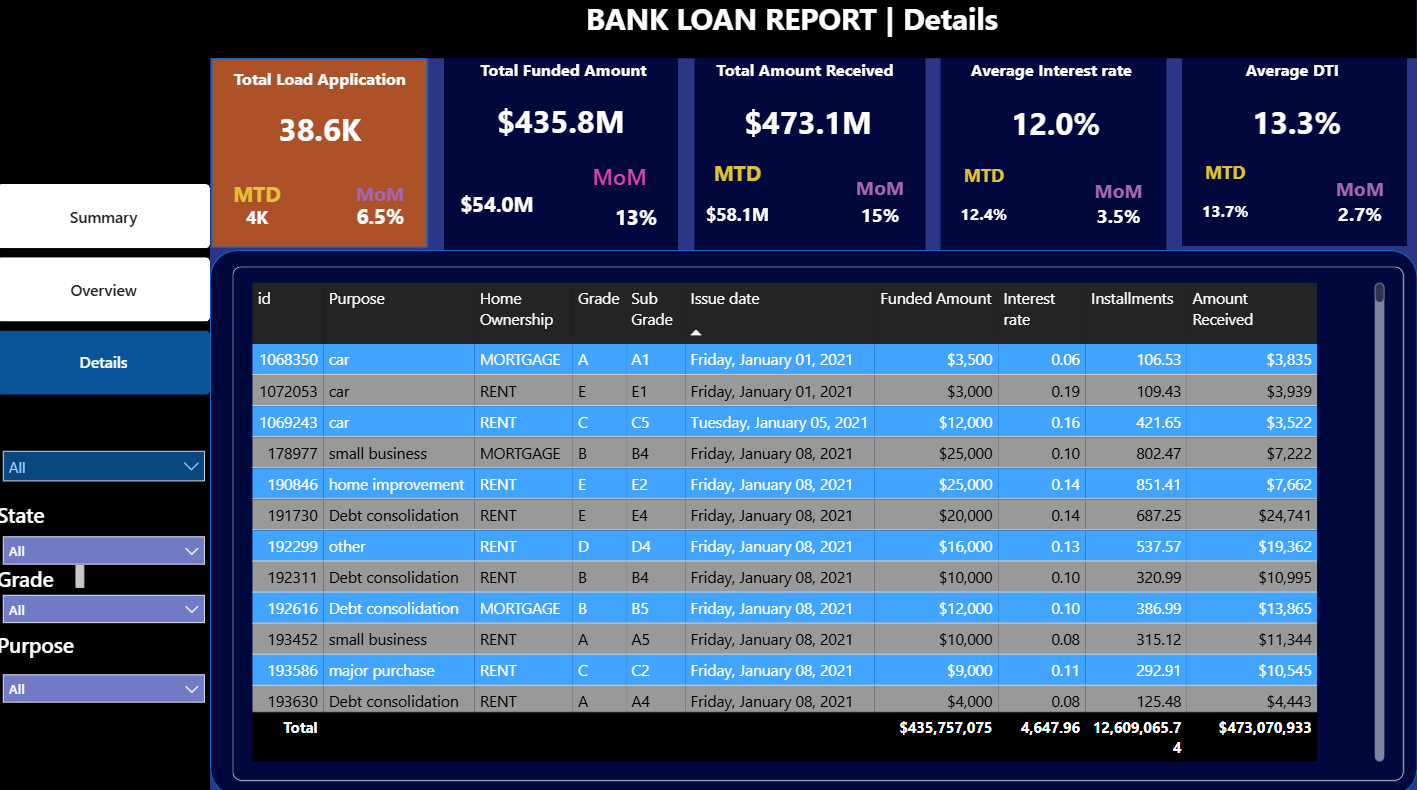

Layout of this report page (visuals, bound fields, positions):
{"tool":"powerbi","page":{"name":"Details","canvas":[1280,720],"ordinal":2},"visuals":[{"type":"shape","box":[0,0,1279.5,54.5],"z":0},{"type":"shape","box":[0,54.5,192.3,664.7],"z":1000},{"type":"textbox","box":[466.4,0,499.7,54.5],"z":2000},{"type":"shape","box":[193,53.6,194.6,170.9],"z":2000,"group":"g1"},{"type":"group","id":"g1","title":"Group 1","box":[192.7,53.6,195.3,170.9],"z":3000},{"type":"group","id":"g2","title":"Group 2","box":[402.8,54.2,211.5,172.6],"z":4000},{"type":"card","fields":{"Values":["financial_loan (2).Total Funded Amount"]},"box":[403.4,78.6,210.3,67],"z":4000,"group":"g2"},{"type":"card","fields":{"Values":["financial_loan (2).Avearge DTI"]},"box":[1070.3,81.1,201.4,64.7],"z":4000,"group":"g5"},{"type":"card","fields":{"Values":["financial_loan (2).Totak Amount Received"]},"box":[629.8,81.5,201.7,65.6],"z":4000,"group":"g3"},{"type":"card","fields":{"Values":["financial_loan (2).Average Interest Rate"]},"box":[852,81.6,202.4,65.9],"z":4000,"group":"g4"},{"type":"card","fields":{"Values":["financial_loan (2).Total Loan Application"]},"box":[192.7,88.5,195.3,60.6],"z":4000,"group":"g1"},{"type":"textbox","box":[410.7,54.2,199.3,28],"z":5000,"group":"g2"},{"type":"group","id":"g3","title":"Group 2","box":[627.9,54.2,208.2,172.6],"z":5000},{"type":"textbox","box":[627.9,54.2,199.2,28.5],"z":5000,"group":"g3"},{"type":"textbox","box":[850.1,54.2,199.9,28.5],"z":5000,"group":"g4"},{"type":"textbox","box":[1068.4,54.2,198.9,28],"z":5000,"group":"g5"},{"type":"textbox","box":[192.7,61.2,195.3,27.3],"z":5000,"group":"g1"},{"type":"group","id":"g4","title":"Group 2","box":[849.6,54.2,204.8,172.6],"z":6000},{"type":"card","title":"MTD","fields":{"Values":["financial_loan (2).MTD Total Received Amount"]},"box":[629.3,144.5,74.6,78.7],"z":6000,"group":"g3"},{"type":"card","title":"MTD","fields":{"Values":["financial_loan (2).MTD Average DTI"]},"box":[1067.9,146.7,77.8,72.3],"z":6000,"group":"g5"},{"type":"card","title":"MTD","fields":{"Values":["financial_loan (2).MTD Average Insterest rate"]},"box":[849.6,148.4,78.2,73.6],"z":6000,"group":"g4"},{"type":"card","title":"MTD","fields":{"Values":["financial_loan (2).MTD Load Applications"]},"box":[192.7,149.1,81.8,72.7],"z":6000,"group":"g1"},{"type":"card","title":"MTD","fields":{"Values":["financial_loan (2).MTD Total Funded Amount"]},"box":[402.8,149.2,95,77.6],"z":6000,"group":"g2"},{"type":"card","title":"MoM","fields":{"Values":["financial_loan (2).MoM Received Amount"]},"box":[753,144.5,83.1,82.3],"z":7000,"group":"g3"},{"type":"card","title":"MoM","fields":{"Values":["financial_loan (2).MoM Average DTI"]},"box":[1186.4,146.1,82.9,77.6],"z":7000,"group":"g5"},{"type":"card","title":"MoM","fields":{"Values":["financial_loan (2).MoM Total Funded Amount"]},"box":[536.3,147.4,78,75.9],"z":7000,"group":"g2"},{"type":"card","title":"MoM","fields":{"Values":["financial_loan (2).MoM Interest Rate"]},"box":[968.7,147.8,83.3,79],"z":7000,"group":"g4"},{"type":"card","title":"MoM","fields":{"Values":["financial_loan (2).MoM Load Applications"]},"box":[300.2,149.1,87.8,72.7],"z":7000,"group":"g1"},{"type":"shape","box":[191.9,227.1,1088.1,492],"z":7000},{"type":"group","id":"g5","title":"Group 2","box":[1067.9,54.2,203.1,169.2],"z":8000},{"type":"textbox","box":[212,93,1068,150],"z":9000},{"type":"slicer","fields":{"Values":["financial_loan (2).address_state"]},"box":[0,480,192.3,53],"z":10000},{"type":"textbox","box":[0,452.7,60.6,27.3],"z":11000},{"type":"textbox","box":[0,510.3,78.7,22.7],"z":12000},{"type":"slicer","fields":{"Values":["financial_loan (2).grade"]},"box":[0,533,192.3,37.9],"z":13000},{"type":"textbox","box":[0,570.9,180.2,33.3],"z":14000},{"type":"slicer","fields":{"Values":["financial_loan (2).purpose"]},"box":[0,604.2,192.3,43.9],"z":15000},{"type":"slicer","fields":{"Values":["Select Measure.Select Measure"]},"box":[0,402.8,192.3,50],"z":16000},{"type":"tableEx","fields":{"Values":["financial_loan (2).id","financial_loan (2).purpose","financial_loan (2).home_ownership","financial_loan (2).grade","financial_loan (2).sub_grade","financial_loan (2).issue_date","financial_loan (2).Total Funded Amount","Sum(financial_loan (2).int_rate)","Sum(financial_loan (2).installment)","financial_loan (2).Total Amount Received"]},"box":[212,242.3,1055.4,463.3],"z":17000},{"type":"pageNavigator","box":[0,168.1,192.3,192.3],"z":18000}]}

Visuals, with their boxes in screenshot pixels (x1, y1, x2, y2), scaled from the page's 1280x720 canvas onto the 1417x790 screenshot:
shape: pyautogui.locateOnScreen(0, 0, 1416, 60)
shape: pyautogui.locateOnScreen(0, 60, 213, 789)
textbox: pyautogui.locateOnScreen(516, 0, 1070, 60)
shape: pyautogui.locateOnScreen(214, 59, 429, 246)
"Group 1" group: pyautogui.locateOnScreen(213, 59, 430, 246)
"Group 2" group: pyautogui.locateOnScreen(446, 59, 680, 249)
card - financial_loan (2).Total Funded Amount: pyautogui.locateOnScreen(447, 86, 679, 160)
card - financial_loan (2).Avearge DTI: pyautogui.locateOnScreen(1185, 89, 1408, 160)
card - financial_loan (2).Totak Amount Received: pyautogui.locateOnScreen(697, 89, 920, 161)
card - financial_loan (2).Average Interest Rate: pyautogui.locateOnScreen(943, 90, 1167, 162)
card - financial_loan (2).Total Loan Application: pyautogui.locateOnScreen(213, 97, 430, 164)
textbox: pyautogui.locateOnScreen(455, 59, 675, 90)
"Group 2" group: pyautogui.locateOnScreen(695, 59, 926, 249)
textbox: pyautogui.locateOnScreen(695, 59, 916, 91)
textbox: pyautogui.locateOnScreen(941, 59, 1162, 91)
textbox: pyautogui.locateOnScreen(1183, 59, 1403, 90)
textbox: pyautogui.locateOnScreen(213, 67, 430, 97)
"Group 2" group: pyautogui.locateOnScreen(941, 59, 1167, 249)
"MTD" card: pyautogui.locateOnScreen(697, 159, 779, 245)
"MTD" card: pyautogui.locateOnScreen(1182, 161, 1268, 240)
"MTD" card: pyautogui.locateOnScreen(941, 163, 1027, 244)
"MTD" card: pyautogui.locateOnScreen(213, 164, 304, 243)
"MTD" card: pyautogui.locateOnScreen(446, 164, 551, 249)
"MoM" card: pyautogui.locateOnScreen(834, 159, 926, 249)
"MoM" card: pyautogui.locateOnScreen(1313, 160, 1405, 245)
"MoM" card: pyautogui.locateOnScreen(594, 162, 680, 245)
"MoM" card: pyautogui.locateOnScreen(1072, 162, 1165, 249)
"MoM" card: pyautogui.locateOnScreen(332, 164, 430, 243)
shape: pyautogui.locateOnScreen(212, 249, 1416, 789)
"Group 2" group: pyautogui.locateOnScreen(1182, 59, 1407, 245)
textbox: pyautogui.locateOnScreen(235, 102, 1416, 267)
slicer - financial_loan (2).address_state: pyautogui.locateOnScreen(0, 527, 213, 585)
textbox: pyautogui.locateOnScreen(0, 497, 67, 527)
textbox: pyautogui.locateOnScreen(0, 560, 87, 585)
slicer - financial_loan (2).grade: pyautogui.locateOnScreen(0, 585, 213, 626)
textbox: pyautogui.locateOnScreen(0, 626, 199, 663)
slicer - financial_loan (2).purpose: pyautogui.locateOnScreen(0, 663, 213, 711)
slicer - Select Measure.Select Measure: pyautogui.locateOnScreen(0, 442, 213, 497)
tableEx - financial_loan (2).id x financial_loan (2).purpose: pyautogui.locateOnScreen(235, 266, 1403, 774)
pageNavigator: pyautogui.locateOnScreen(0, 184, 213, 395)
